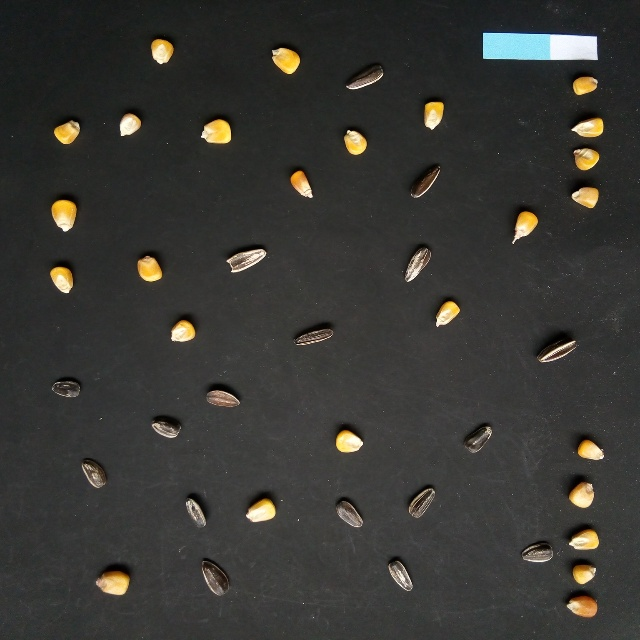escala: (482, 32, 598, 59)
girasol: (534, 332, 578, 367), (407, 162, 445, 201), (197, 556, 232, 598), (225, 243, 268, 277), (343, 60, 386, 92), (401, 244, 434, 284), (406, 483, 439, 521), (385, 556, 415, 596), (462, 421, 496, 456), (332, 496, 366, 529), (78, 456, 109, 491), (517, 539, 557, 565), (293, 324, 335, 348), (204, 386, 242, 412), (183, 494, 209, 530), (149, 415, 183, 441), (46, 377, 83, 399)
maiz: (93, 566, 135, 599), (199, 115, 235, 148), (508, 208, 539, 246), (48, 197, 79, 234), (339, 125, 371, 159), (564, 592, 601, 621), (269, 47, 304, 77), (565, 479, 598, 510), (243, 495, 278, 524), (133, 253, 165, 284), (569, 115, 606, 141), (431, 298, 462, 329), (573, 435, 606, 464), (566, 527, 601, 554), (47, 264, 77, 295), (567, 184, 600, 211), (420, 98, 445, 133), (51, 118, 82, 146), (568, 72, 600, 99), (148, 37, 177, 66), (289, 167, 314, 200), (571, 146, 601, 173), (334, 428, 365, 454), (117, 112, 144, 141), (169, 318, 197, 345), (569, 561, 599, 586)
